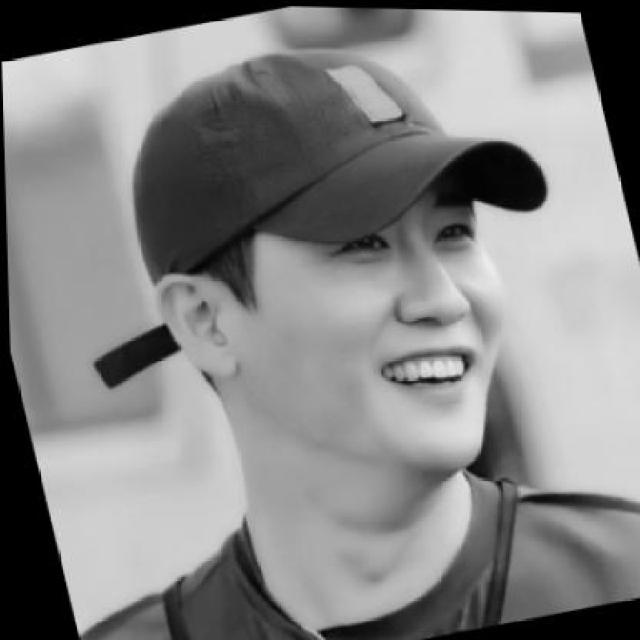hat: (131, 46, 549, 283)
